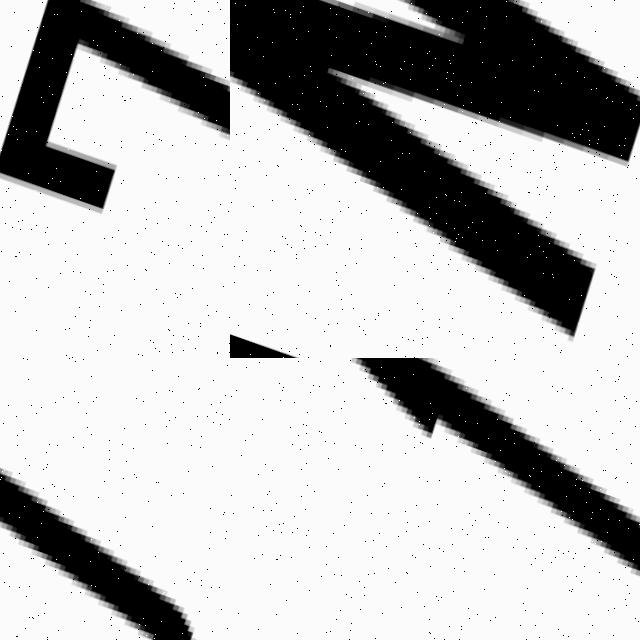1: (230, 358, 640, 640)
7: (0, 0, 230, 353)
N: (230, 0, 640, 351)
U: (0, 358, 230, 640)
